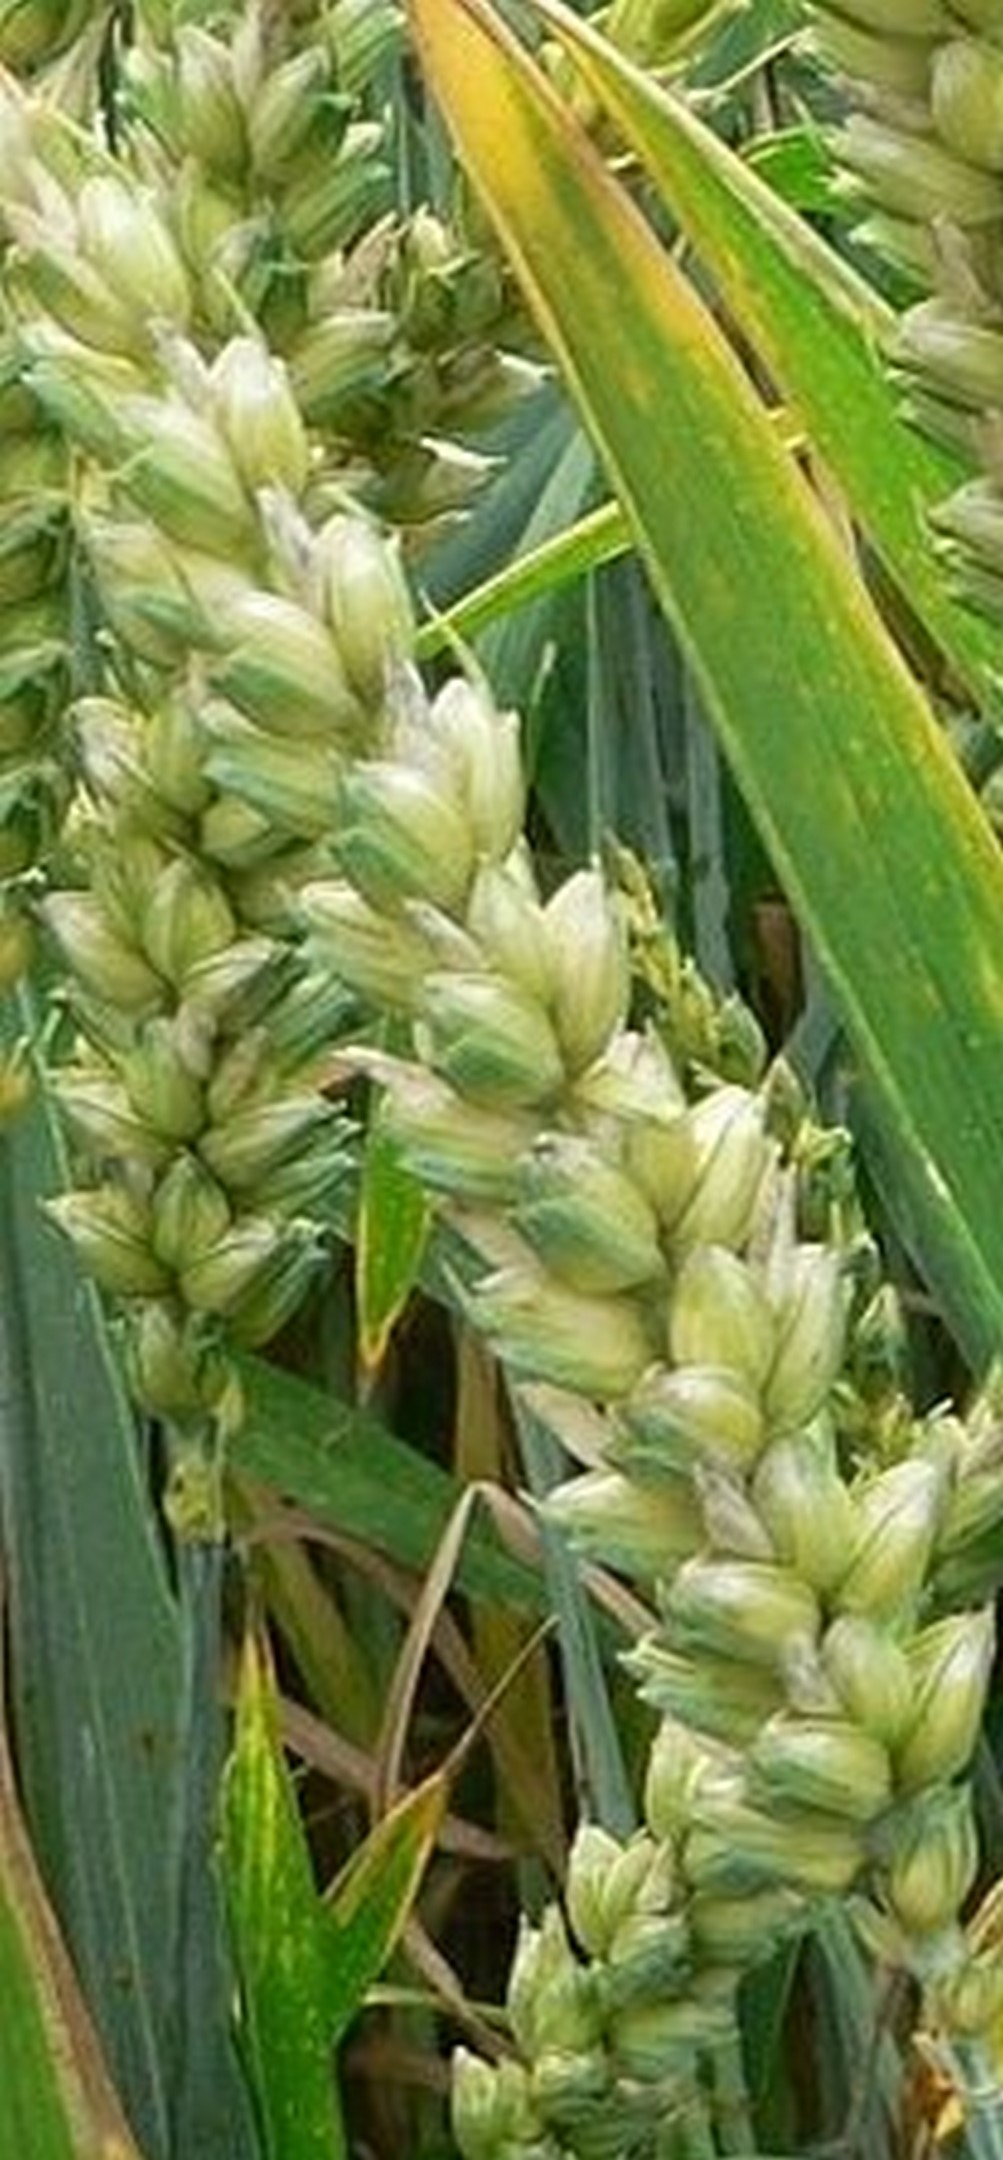Healthy Wheat: (51, 138, 1003, 1861)
